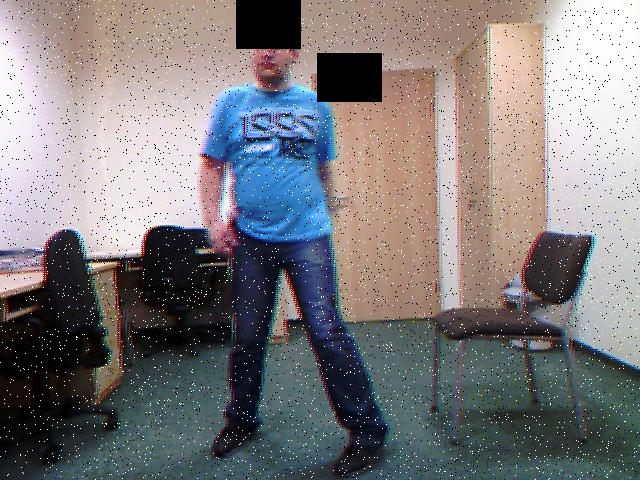walking: (195, 8, 403, 480)
